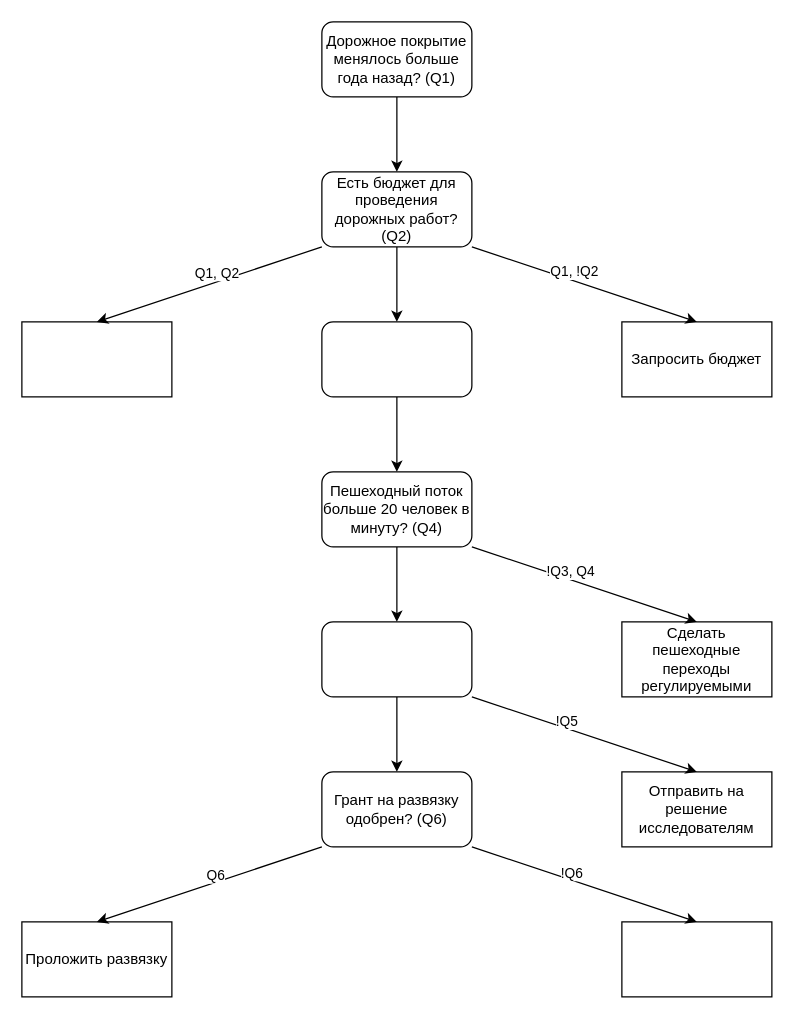
Some shapes in this 794 by 1019 pixel diagram are drawn without their labels. Here are the shapes that lost their labels. From the top down, the centre of each, then its label:
pixel 96 359: Провести ремонт дорожного покрытия
pixel 396 359: Пешеходные переходы регулируемы? (Q3)
pixel 396 659: Возможно ли проложить развязку? (Q5)
pixel 696 959: Доработать проект развязки и попробовать снова
